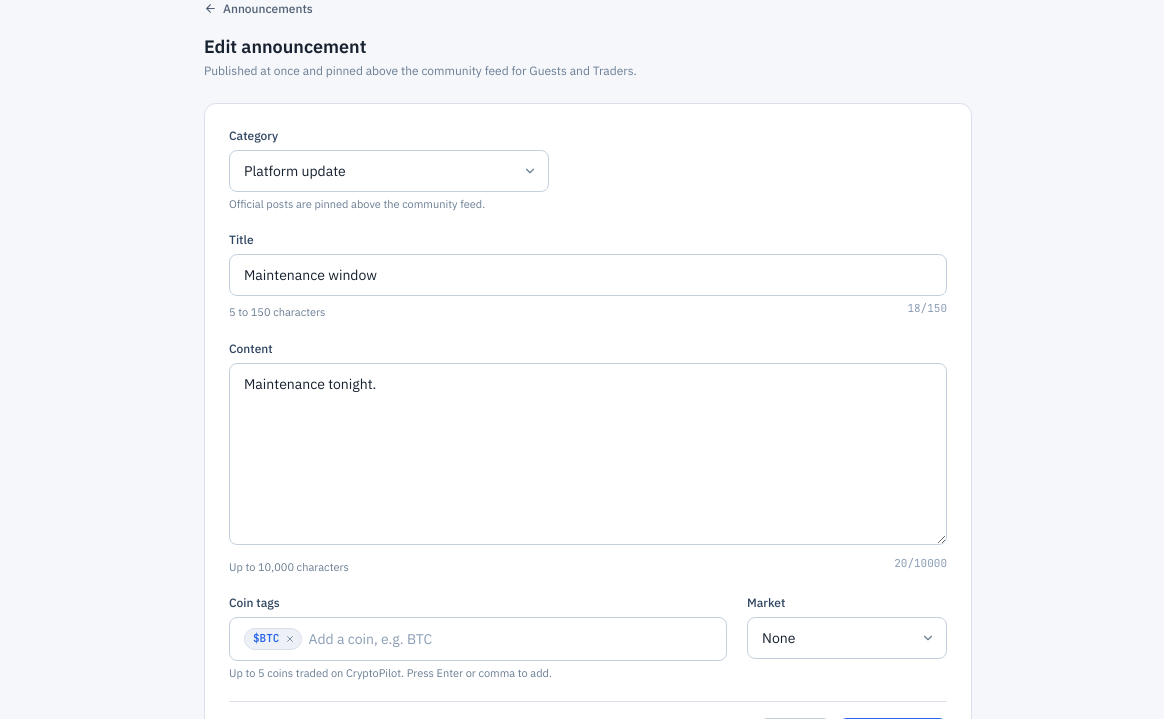
Test case: announcement screens (UC-44) › edits with the loaded category and no media (Q-81)
The width and height of the screenshot is (1164, 719).
Select "Education" in the dropdown labelled "Category". click: (389, 170)
box: [229,150,549,192]
(page scrolled)
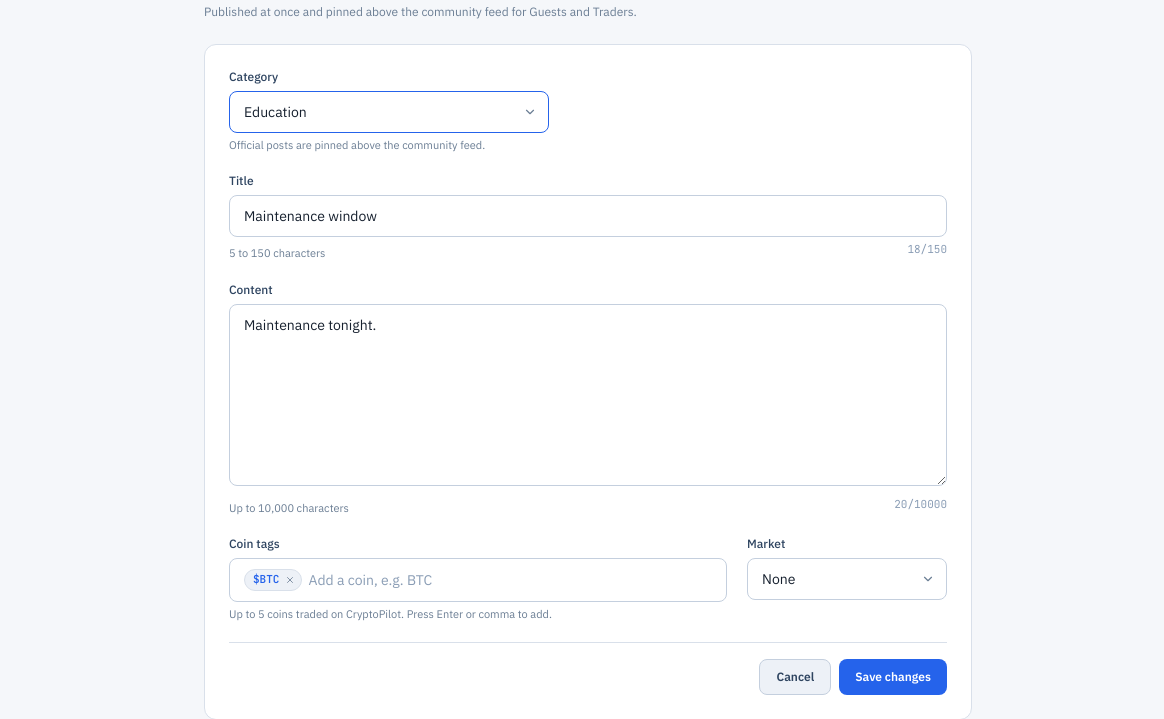
Click the button "Save changes". click: (893, 677)
box: [839,659,947,695]
(page scrolled)
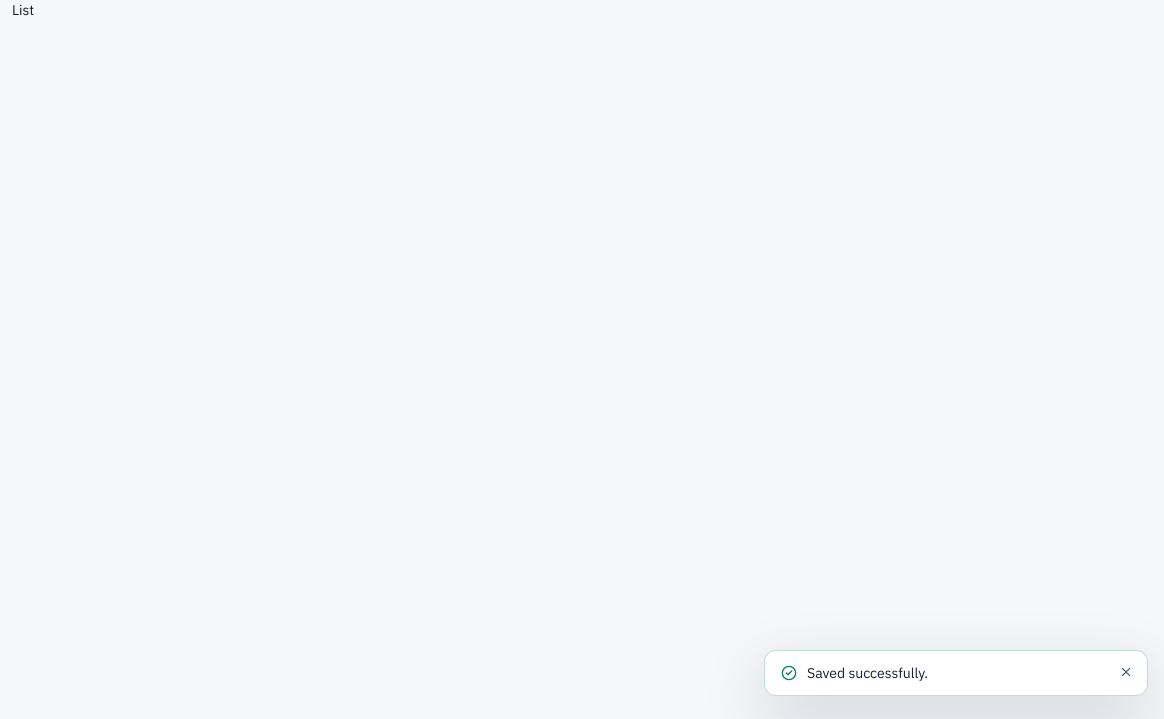
Expected: the text "List" is shown, [12,1,34,19]
